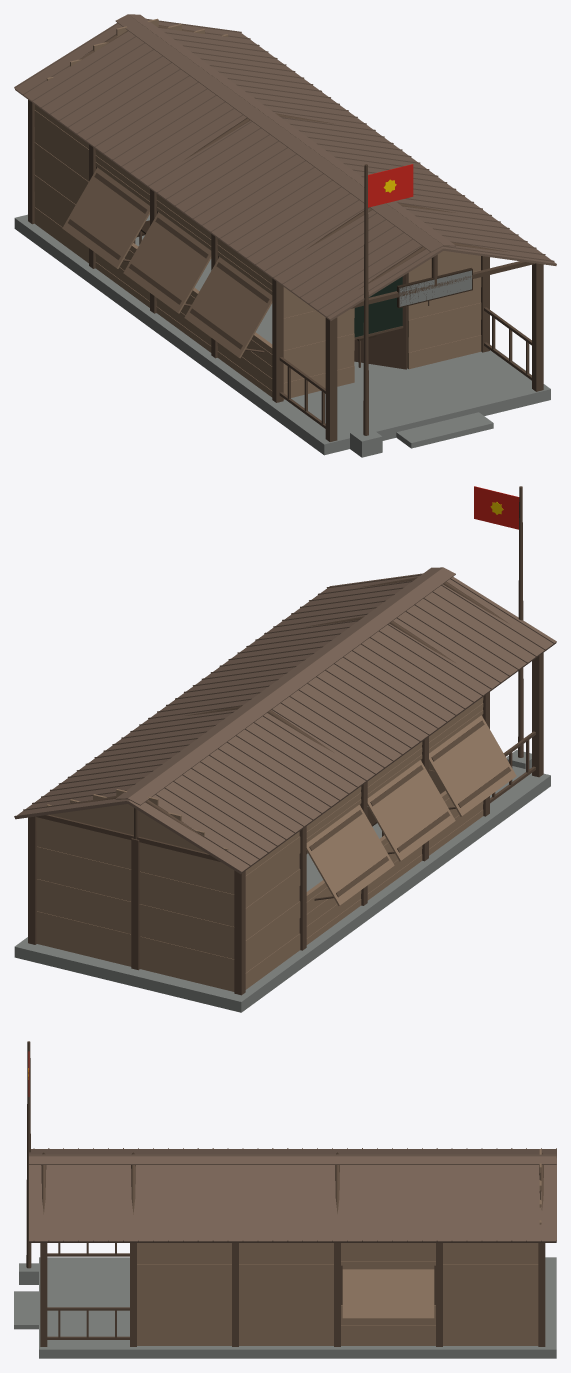
Rendered from schoolhouse.glb.
3 views of the same model, one above another, from view 1: azimuth 30°, elevation 25°; view 2: azimuth 150°, elevation 25°; view 3: azimuth 270°, elevation 25° (orthographic). The views are drawn at different scales.
Parts seen in each view (by area): view 1: Mesh_RightRoofBase, Mesh_Foundation, Mesh_LeftRoofBase, Mesh_RoofCapR, Mesh_ShutterMesh_1, Mesh_ShutterMesh_2, Mesh_ShutterMesh_0, Mesh_RoofCapL, Mesh_Step1, Mesh_DoorMesh, Mesh_Column_11, Mesh_Column_10 (+25 smaller); view 2: Mesh_RightRoofBase, Mesh_LeftRoofBase, Mesh_Foundation, Mesh_RoofCapR, Mesh_ShutterMesh_1, Mesh_ShutterMesh_0, Mesh_ShutterMesh_2, Mesh_RoofCapL, Mesh_BackWall_L_Plank_3, Mesh_BackWall_R_Plank_1, Mesh_BackWall_R_Plank_5, Mesh_BackWall_R_Plank_3 (+29 smaller); view 3: Mesh_LeftRoofBase, Mesh_Foundation, Mesh_RoofCapL, Mesh_LeftShutterMesh, Mesh_RightRoofBase, Mesh_RoofCapR, Mesh_LeftWall_1_Plank_5, Mesh_LeftWall_1_Plank_1, Mesh_LeftWall_1_Plank_3, Mesh_LeftWall_3_Plank_1, Mesh_LeftWall_3_Plank_3, Mesh_LeftWall_3_Plank_5 (+36 smaller).
Part boxes in pixels (x1,y1,x2,y2): Mesh_RightRoofBase: (14,23,443,320); Mesh_Foundation: (14,214,550,455); Mesh_LeftRoofBase: (148,20,556,265); Mesh_RoofCapR: (115,14,443,252); Mesh_ShutterMesh_1: (123,212,211,313); Mesh_ShutterMesh_2: (184,257,272,358); Mesh_ShutterMesh_0: (62,167,149,268); Mesh_RoofCapL: (128,14,455,246); Mesh_Step1: (396,412,493,448); Mesh_DoorMesh: (354,274,407,369); Mesh_Column_11: (325,317,337,441); Mesh_Column_10: (532,263,543,391); Mesh_RightRoofBase: (127,576,556,874); Mesh_LeftRoofBase: (14,573,422,819); Mesh_Foundation: (14,766,550,1012); Mesh_RoofCapR: (128,567,455,805); Mesh_ShutterMesh_1: (367,760,455,861); Mesh_ShutterMesh_0: (306,804,394,905); Mesh_ShutterMesh_2: (429,715,516,816); Mesh_RoofCapL: (115,567,443,799); Mesh_BackWall_L_Plank_3: (36,879,131,918); Mesh_BackWall_R_Plank_1: (139,936,234,976); Mesh_BackWall_R_Plank_5: (139,871,234,911); Mesh_BackWall_R_Plank_3: (139,904,234,943); Mesh_LeftRoofBase: (29,1165,556,1242); Mesh_Foundation: (39,1257,556,1358); Mesh_RoofCapL: (29,1156,556,1164); Mesh_LeftShutterMesh: (342,1269,434,1318); Mesh_RightRoofBase: (29,1149,556,1154); Mesh_RoofCapR: (29,1154,556,1156); Mesh_LeftWall_1_Plank_5: (443,1264,538,1278); Mesh_LeftWall_1_Plank_1: (443,1318,538,1332); Mesh_LeftWall_1_Plank_3: (443,1291,538,1305); Mesh_LeftWall_3_Plank_1: (239,1318,333,1332); Mesh_LeftWall_3_Plank_3: (239,1291,333,1305); Mesh_LeftWall_3_Plank_5: (239,1264,333,1278).
Size of the model in its own units: 5.27 by 5.3 by 10.91.
